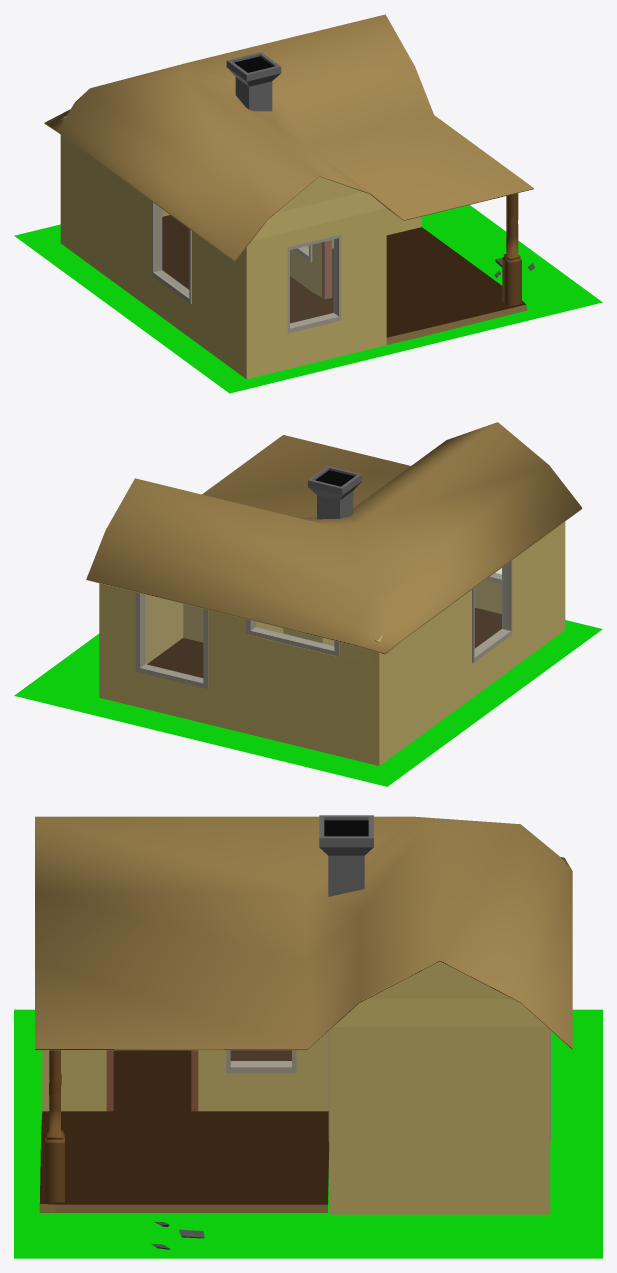
File: log cabin 1.fbx
3 renders of one model, top to bottom at view 1: azimuth 30°, elevation 25°; view 2: azimuth 150°, elevation 25°; view 3: azimuth 270°, elevation 25°, orthographic. The views are drawn at different scales.
Visible parts, largest first — view 1: Roof, Log Cabin, Tile Plate, Windows, Window Frames, Chimney, Pilar, Door Frame; view 2: Roof, Log Cabin, Tile Plate, Windows, Window Frames, Chimney; view 3: Roof, Log Cabin, Tile Plate, Chimney, Pilar, Window Frames, Door Frame, Windows.
Part boxes in pixels (<box>): Roof: <box>44,14,533,261</box>; Log Cabin: <box>60,116,527,379</box>; Tile Plate: <box>14,205,602,393</box>; Windows: <box>161,209,333,323</box>; Window Frames: <box>152,202,341,333</box>; Chimney: <box>226,52,281,111</box>; Pilar: <box>502,193,521,306</box>; Door Frame: <box>322,240,332,299</box>; Roof: <box>86,422,582,654</box>; Log Cabin: <box>99,522,565,765</box>; Tile Plate: <box>14,620,602,786</box>; Windows: <box>144,568,502,678</box>; Window Frames: <box>135,560,512,688</box>; Chimney: <box>308,466,362,519</box>; Roof: <box>35,816,572,1050</box>; Log Cabin: <box>39,961,550,1214</box>; Tile Plate: <box>14,1009,602,1258</box>; Chimney: <box>319,815,373,896</box>; Pilar: <box>45,1050,64,1202</box>; Window Frames: <box>226,1030,550,1141</box>; Door Frame: <box>106,1050,198,1111</box>; Windows: <box>231,1051,291,1061</box>.
Size of the model in its own units: 1600 by 858 by 1600.
